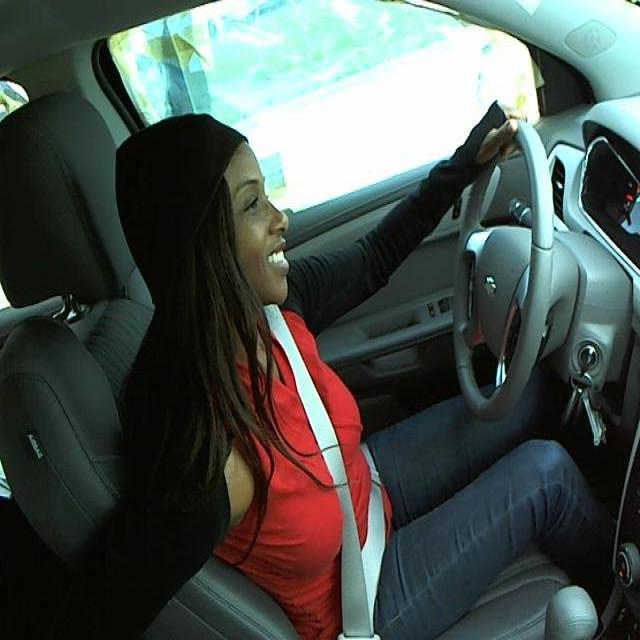seatbelt: (264, 320, 393, 625)
